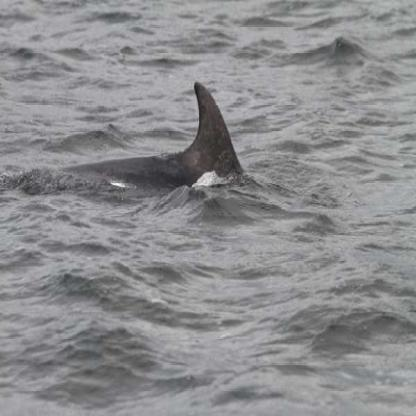dolphin-whale: (58, 75, 263, 206)
